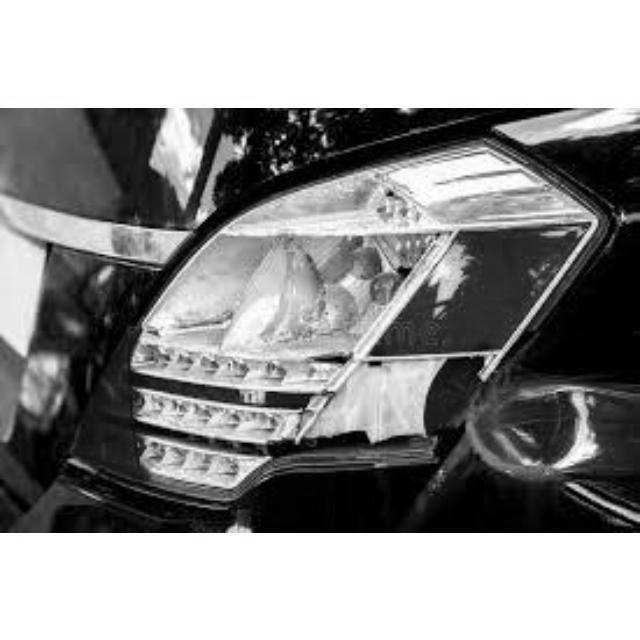Taillight-Damage: (28, 134, 628, 531)
